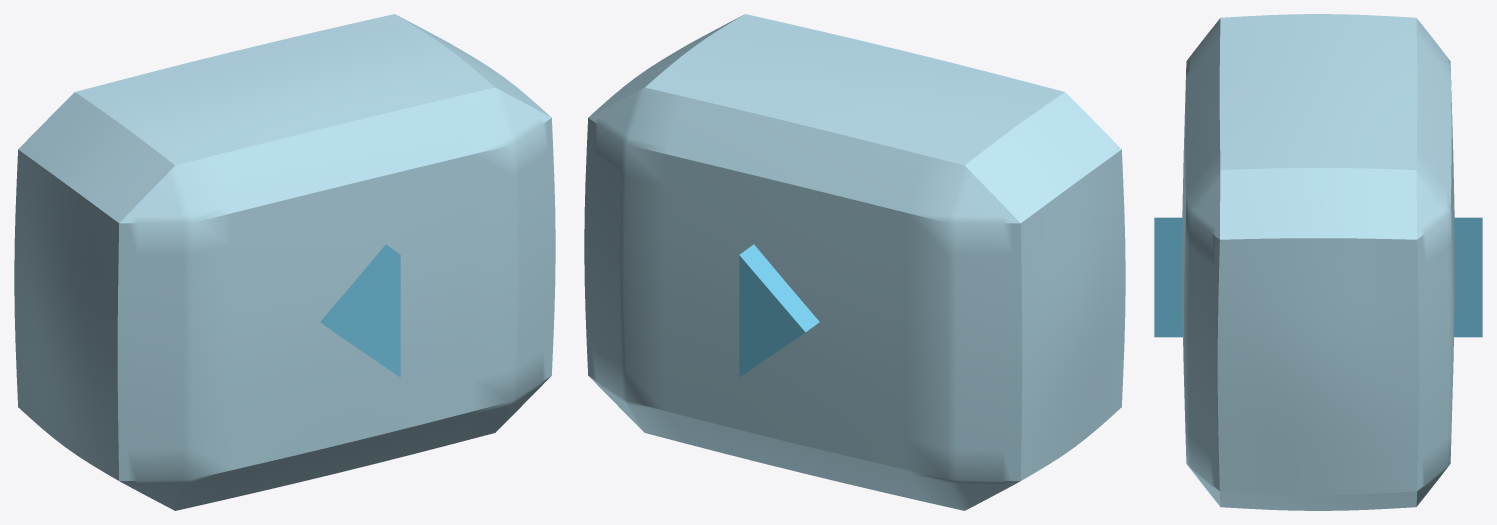
The model's file is play_button_animation_frame4.fbx.
The picture shows the model from 3 angles, left to right: view 1: azimuth 30°, elevation 25°; view 2: azimuth 150°, elevation 25°; view 3: azimuth 270°, elevation 25°; orthographic projection. The views are drawn at different scales.
Visible parts, largest first — view 1: Button, Triangle; view 2: Button, Triangle; view 3: Button, Triangle.
Boxes of the visible parts, x1,y1,x2,y2 form: Button: (14, 14, 555, 510); Triangle: (320, 244, 400, 377); Button: (584, 14, 1125, 510); Triangle: (739, 244, 819, 377); Button: (1182, 14, 1454, 510); Triangle: (1154, 217, 1482, 337).
Size of the model in its own units: 379 by 287 by 245.
